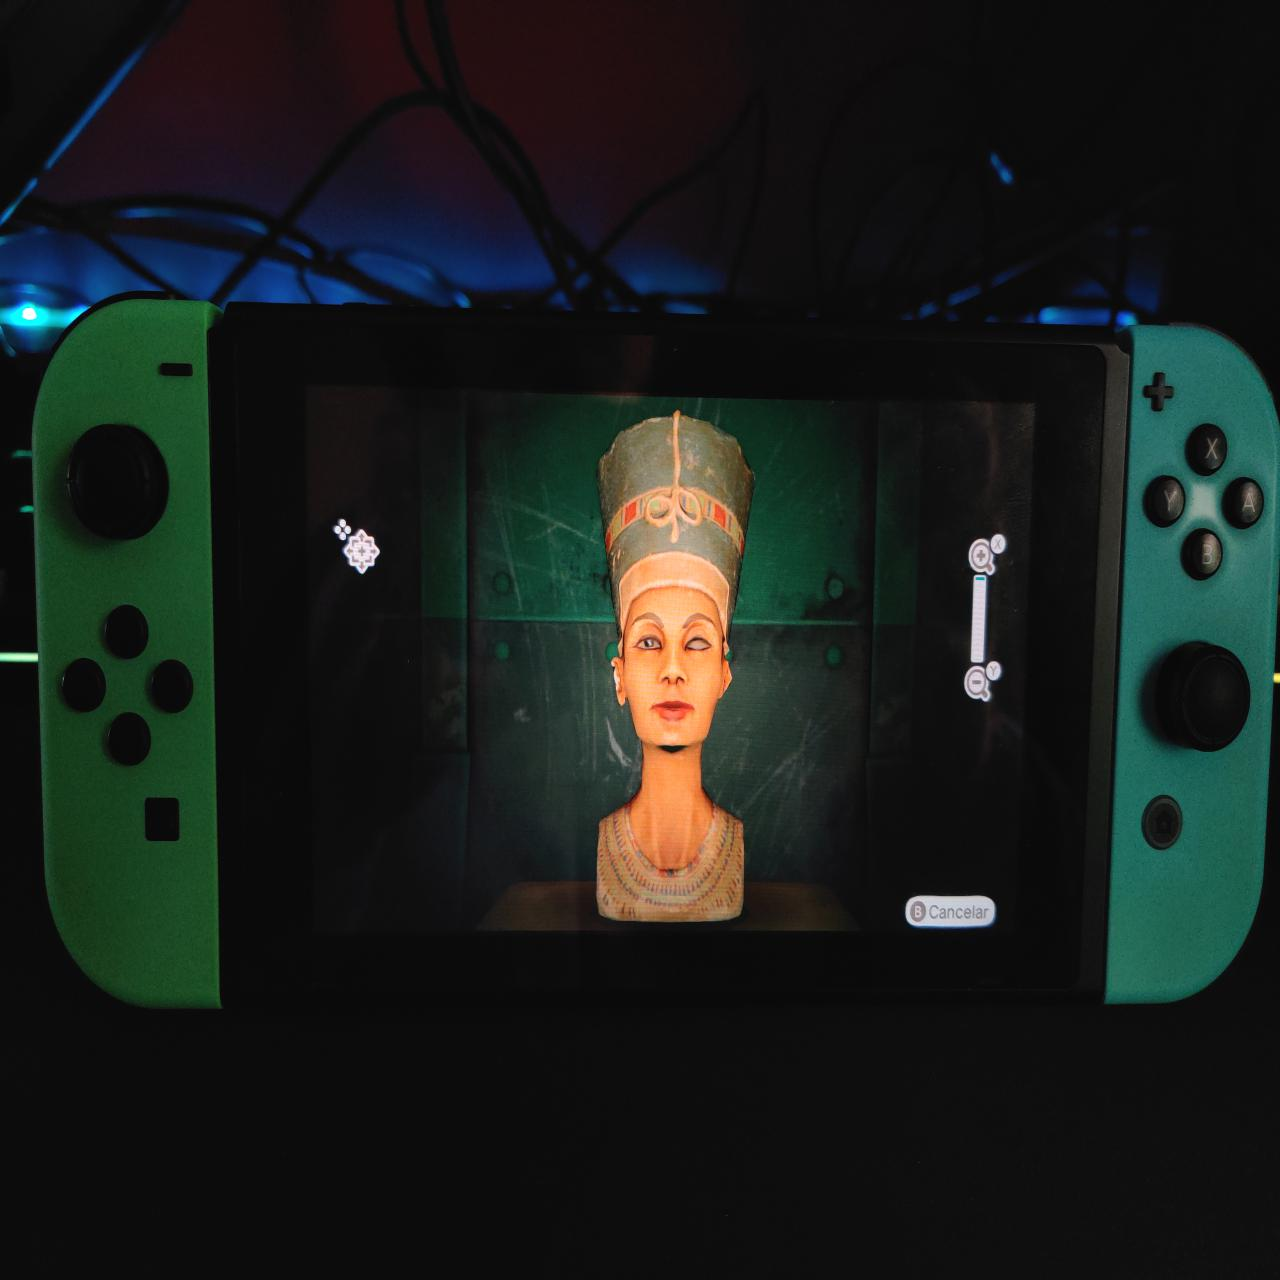Nefertiti: (590, 411, 754, 927)
